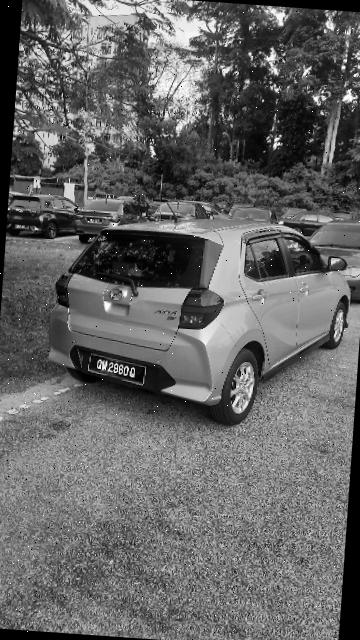License_Plate: (88, 351, 155, 391)
car: (38, 201, 360, 436)
